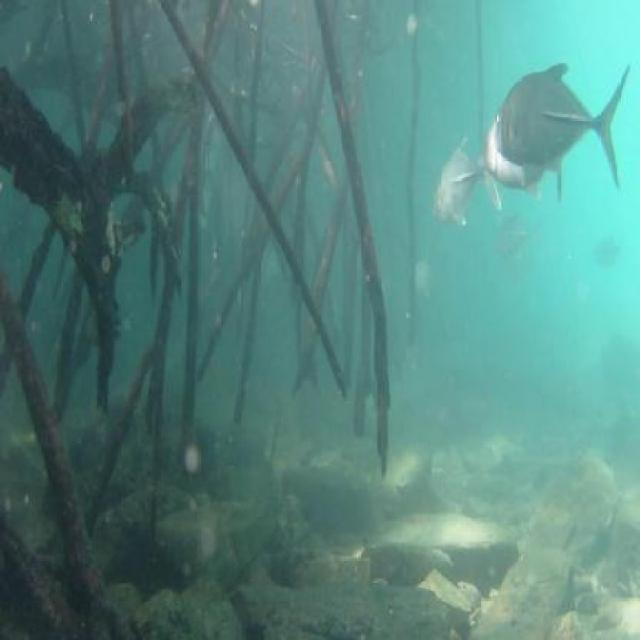Caranx_sexfasciatus_juvenile: (498, 58, 634, 191), (486, 91, 571, 226), (433, 123, 496, 240), (486, 245, 548, 297), (496, 210, 550, 258)
